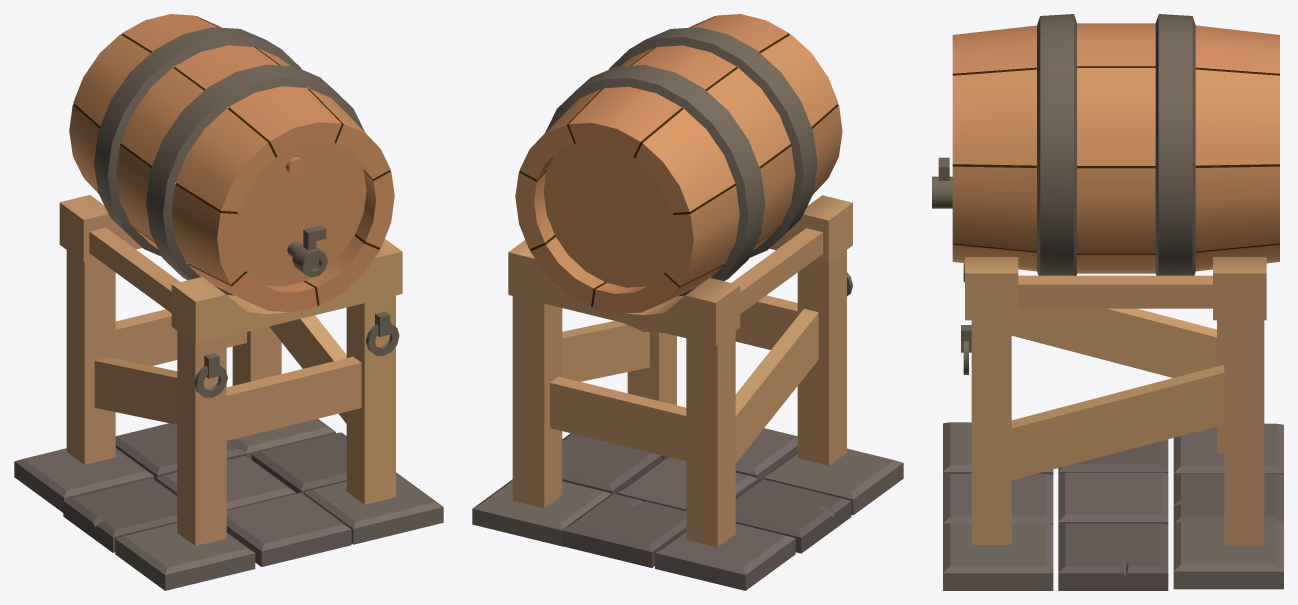
Rendered from Drum.fbx.
3 renders of one model, left to right at view 1: azimuth 30°, elevation 25°; view 2: azimuth 150°, elevation 25°; view 3: azimuth 270°, elevation 25°, orthographic. The views are drawn at different scales.
Visible parts, largest first — view 1: Drum; view 2: Drum; view 3: Drum.
Part boxes in pixels (<box>): Drum: <box>14,14,443,590</box>; Drum: <box>472,14,903,590</box>; Drum: <box>932,14,1283,590</box>.
Size of the model in its own units: 26.79 by 40.79 by 26.46.
